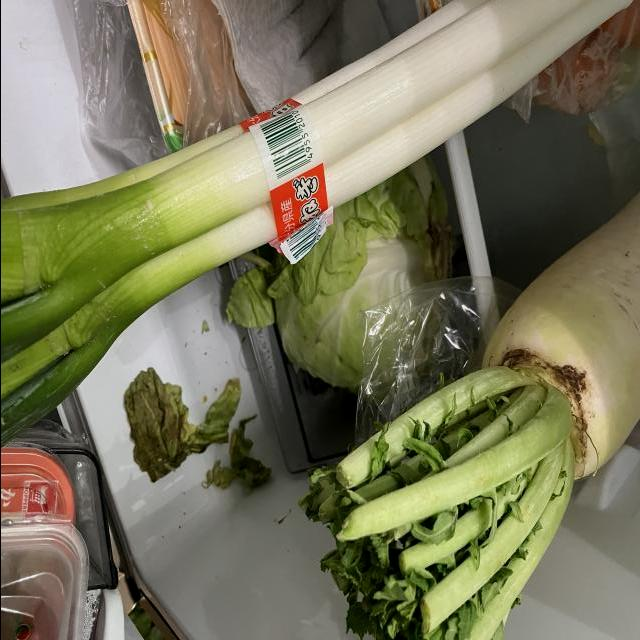cabbage: (238, 134, 461, 398)
onion: (1, 1, 640, 454)
